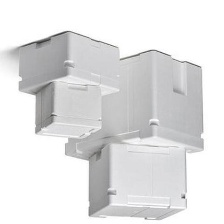foam_box: (61, 46, 208, 165), (84, 138, 191, 224), (14, 29, 124, 104), (31, 78, 106, 141)
